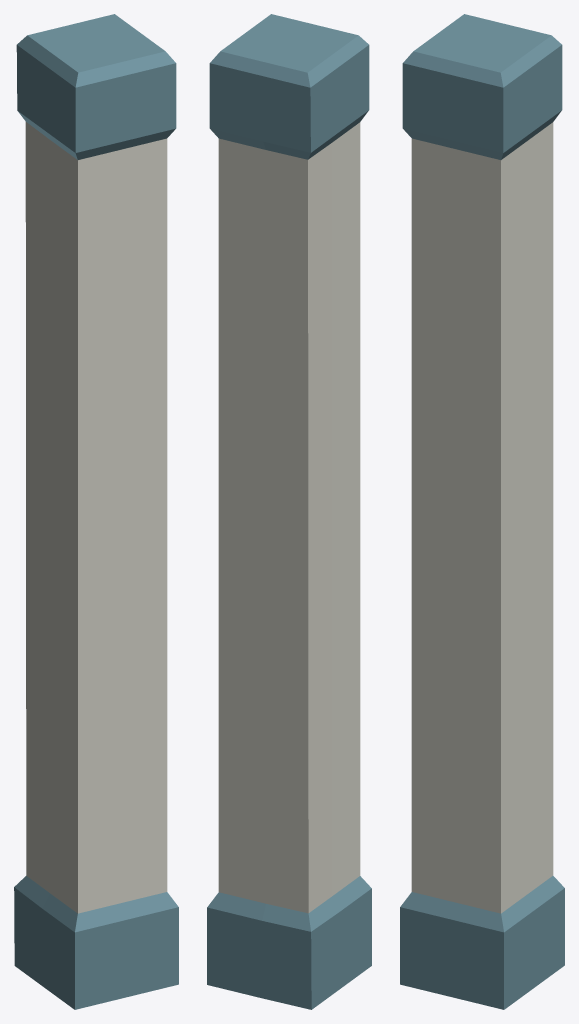
The model's file is g_o_BathromWallCorner360.fbx.
3 renders of one model, left to right at view 1: azimuth 30°, elevation 25°; view 2: azimuth 150°, elevation 25°; view 3: azimuth 330°, elevation 25°, orthographic.
Visible parts, largest first — view 1: g_o_BathromWallCorner360; view 2: g_o_BathromWallCorner360; view 3: g_o_BathromWallCorner360.
Part boxes in pixels (left/top/right/bottom): g_o_BathromWallCorner360: left=14, top=14, right=178, bottom=1009; g_o_BathromWallCorner360: left=207, top=14, right=371, bottom=1009; g_o_BathromWallCorner360: left=400, top=14, right=564, bottom=1009.
Size of the model in its own units: 0.2198 by 1.88 by 0.2223.
